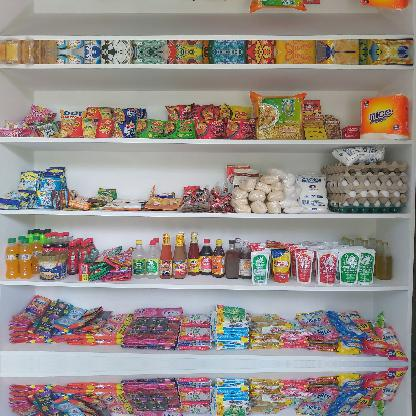Lady-s-Choice: (36, 251, 68, 281)
